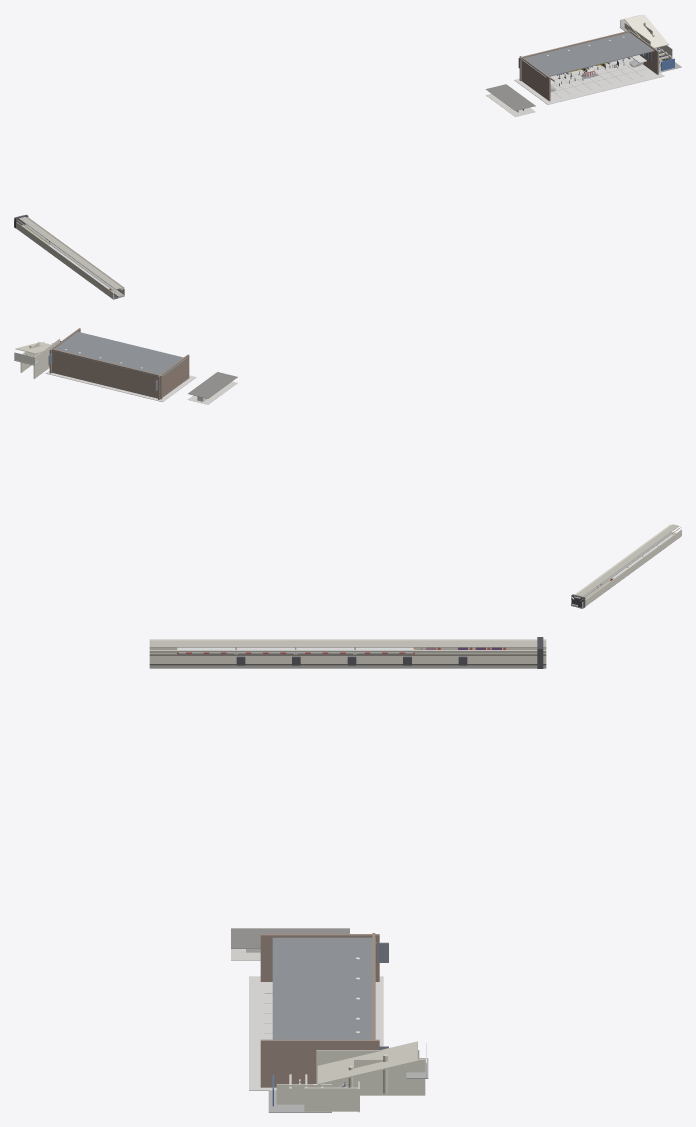
3 renders of one model, top to bottom at view 1: azimuth 30°, elevation 25°; view 2: azimuth 150°, elevation 25°; view 3: azimuth 270°, elevation 25°, orthographic. The views are drawn at different scales.
Parts seen in each view (by area): view 1: S02_RoofVault, S02_Floor, S04_LeftTrackWall, S04_TunnelCrown, S02_WestWall, S01_Ceiling, S03_ShaftCeiling; view 2: S02_RoofVault, S02_NorthBrickWall, S02_WestWall, S04_LeftTrackWall, S04_TunnelCrown, S01_Ceiling, S02_Floor; view 3: S02_RoofVault, S02_EastWall, S04_RightPlatformWall, S04_TunnelCrown, S02_Floor, S03_RightShaftUpperWall, S03_ShaftCeiling, S04_PlatformDeck, S03_RightSideWall, S02_WestWall, S04_RightUpperArch, S01_Ceiling (+5 smaller).
Part boxes in pixels (box(x1,y1,x2,y2)): S02_RoofVault: box(520, 32, 654, 77); S02_Floor: box(514, 57, 664, 104); S04_LeftTrackWall: box(14, 220, 113, 299); S04_TunnelCrown: box(17, 215, 121, 289); S02_WestWall: box(519, 56, 550, 101); S01_Ceiling: box(485, 84, 535, 110); S03_ShaftCeiling: box(624, 14, 669, 48); S02_RoofVault: box(52, 331, 187, 377); S02_NorthBrickWall: box(51, 348, 162, 399); S02_WestWall: box(158, 354, 189, 399); S04_LeftTrackWall: box(582, 529, 681, 608); S04_TunnelCrown: box(573, 524, 679, 598); S01_Ceiling: box(188, 372, 237, 398); S02_Floor: box(46, 371, 196, 401); S02_RoofVault: box(272, 937, 375, 1039); S02_EastWall: box(260, 1039, 379, 1087); S04_RightPlatformWall: box(149, 655, 546, 663); S04_TunnelCrown: box(149, 640, 546, 647); S02_Floor: box(249, 976, 383, 1090); S03_RightShaftUpperWall: box(354, 1059, 425, 1095); S03_ShaftCeiling: box(317, 1041, 417, 1085); S04_PlatformDeck: box(149, 665, 546, 668); S03_RightSideWall: box(304, 1087, 359, 1111); S02_WestWall: box(260, 934, 379, 981); S04_RightUpperArch: box(149, 650, 546, 652); S01_Ceiling: box(231, 928, 349, 948).
Size of the model in its own units: 349 by 50.28 by 100.
